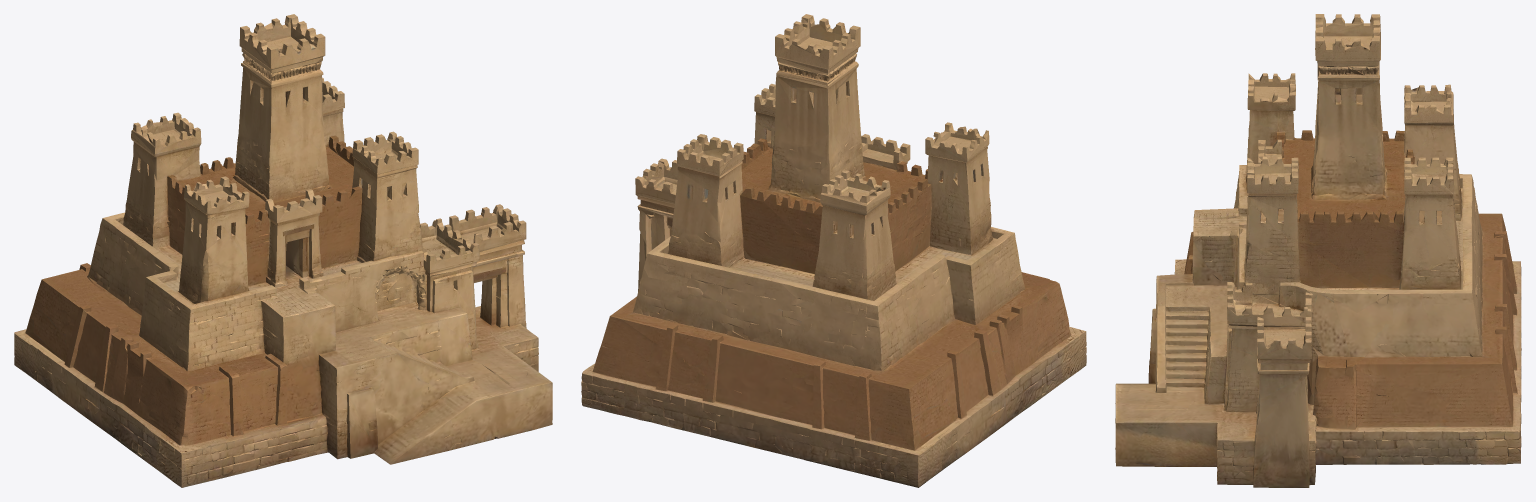
File: citadel.glb
3 renders of one model, left to right at view 1: azimuth 30°, elevation 25°; view 2: azimuth 150°, elevation 25°; view 3: azimuth 270°, elevation 25°, orthographic. The views are drawn at different scales.
Bounding box in the file's own units: 1.9 × 1.65 × 1.68.
Materials: 1 (1 with a texture image).
